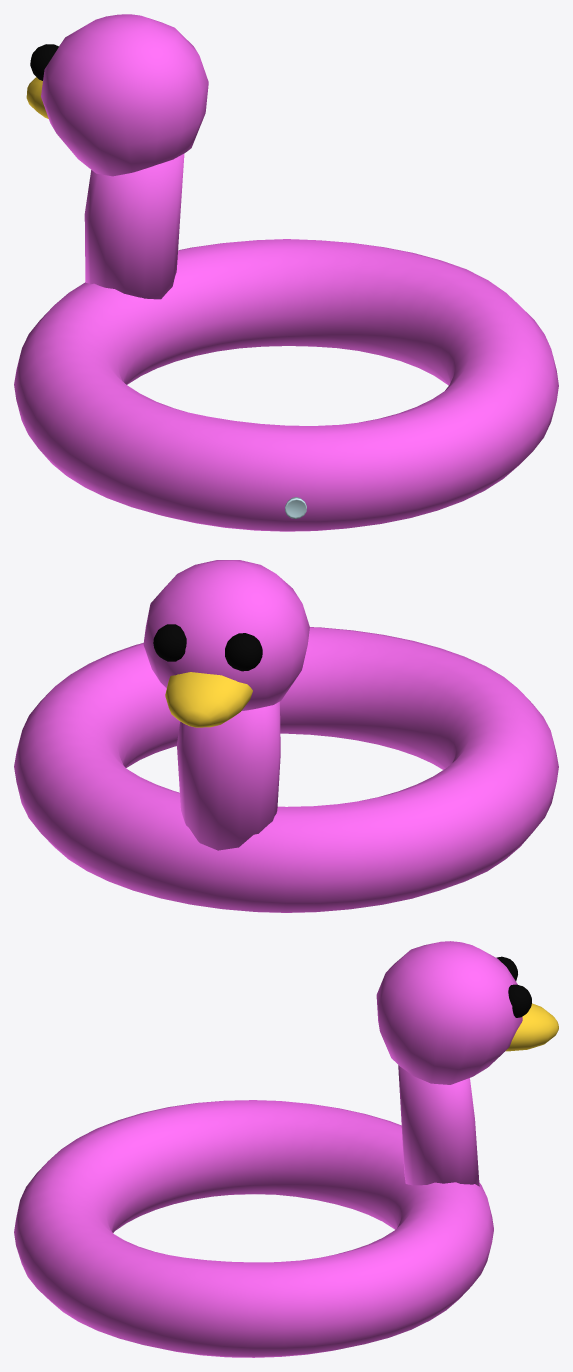
Rendered from bird_floaty.glb.
3 renders of one model, top to bottom at view 1: azimuth 30°, elevation 25°; view 2: azimuth 150°, elevation 25°; view 3: azimuth 270°, elevation 25°, orthographic. The views are drawn at different scales.
Visible parts, largest first — view 1: Bird Floaty; view 2: Bird Floaty; view 3: Bird Floaty.
Boxes of the visible parts, left/top/right/bottom form: Bird Floaty: left=14, top=14, right=558, bottom=531; Bird Floaty: left=14, top=560, right=558, bottom=912; Bird Floaty: left=14, top=941, right=558, bottom=1357.
Size of the model in its own units: 2.51 by 1.74 by 2.84.
1 material, 1 textured.
